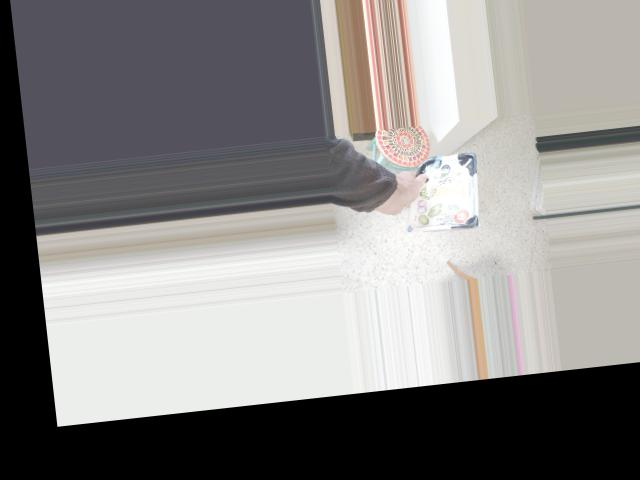cheese: (375, 142, 481, 247)
